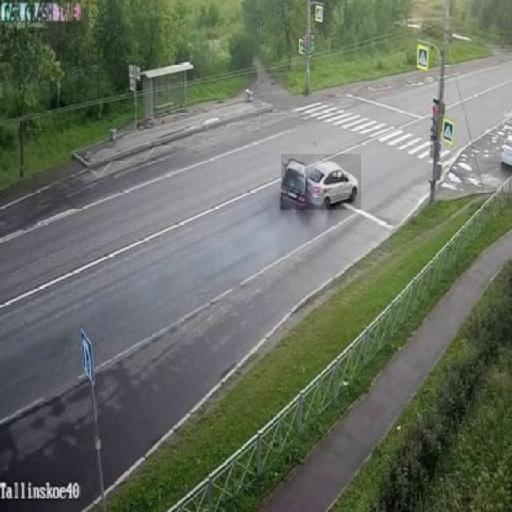小汽车撞小汽车: (282, 154, 362, 210)
